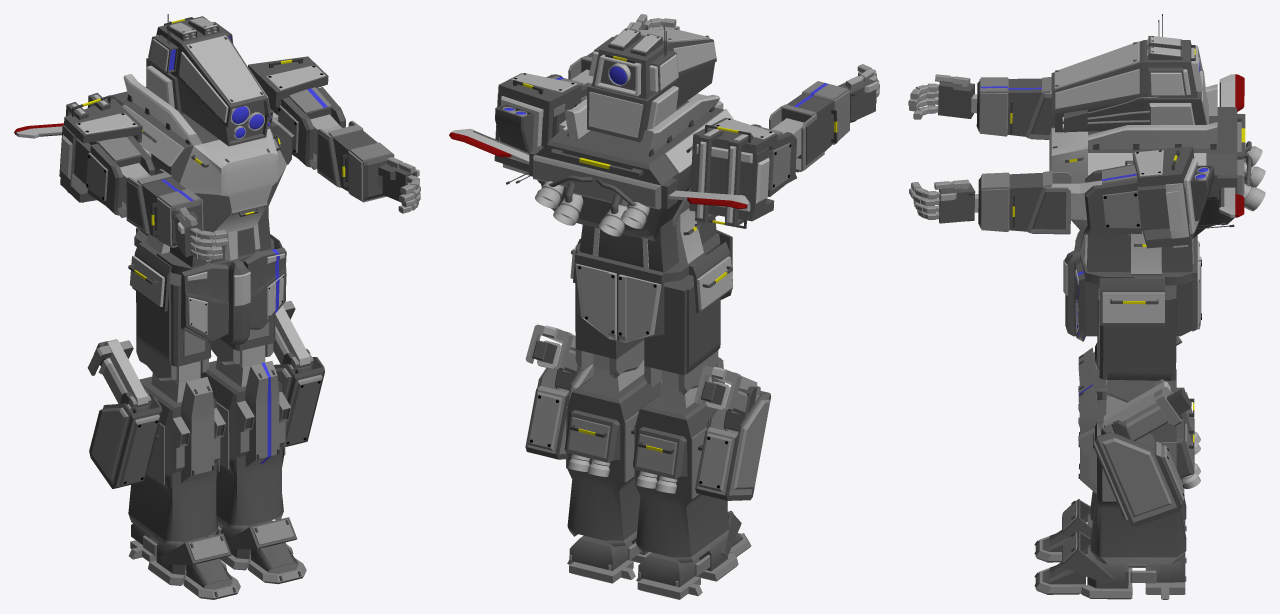
Rendered from Dash_FK_NoRig.fbx.
3 renders of one model, left to right at view 1: azimuth 30°, elevation 25°; view 2: azimuth 150°, elevation 25°; view 3: azimuth 270°, elevation 25°, orthographic. The views are drawn at different scales.
Parts seen in each view (by area): view 1: UpperChest, RightLowerLeg, LeftLowerLeg, Head, RightUpperLeg, RightFoot, Waist, Right_PistolHolster, LeftLowerArm, Right_UpperArm, Right_Shoulder, LeftFoot (+14 smaller); view 2: UpperChest, RightLowerLeg, LeftLowerLeg, Head, Waist, Right_Shoulder, RightUpperLeg, Left_Shoulder, Right_PistolHolster, LowerChest, RightLowerArm, RightFoot (+9 smaller); view 3: UpperChest, Head, LeftLowerLeg, Waist, Left_Pistol_Holster, LeftLowerArm, LeftUpperLeg, LeftFoot, Left_Shoulder, Left_UpperArm, RightLowerArm, LowerChest (+7 smaller).
Part boxes in pixels (<box>): UpperChest: <box>14,74,294,232</box>; RightLowerLeg: <box>128,372,225,547</box>; LeftLowerLeg: <box>200,357,290,531</box>; Head: <box>146,14,272,146</box>; RightUpperLeg: <box>136,272,211,383</box>; RightFoot: <box>129,523,240,599</box>; Waist: <box>128,228,286,344</box>; Right_PistolHolster: <box>89,396,162,488</box>; LeftLowerArm: <box>317,121,394,202</box>; Right_UpperArm: <box>74,136,155,217</box>; Right_Shoulder: <box>59,92,142,202</box>; LeftFoot: <box>206,517,306,584</box>; UpperChest: <box>449,93,749,241</box>; RightLowerLeg: <box>633,357,729,563</box>; LeftLowerLeg: <box>564,359,661,546</box>; Head: <box>587,26,716,142</box>; Waist: <box>570,233,733,342</box>; Right_Shoulder: <box>689,117,777,228</box>; RightUpperLeg: <box>644,275,720,394</box>; Left_Shoulder: <box>494,73,581,184</box>; Right_PistolHolster: <box>695,390,770,500</box>; LowerChest: <box>579,208,716,272</box>; RightLowerArm: <box>769,81,849,172</box>; RightFoot: <box>636,510,751,599</box>; UpperChest: <box>1049,74,1265,238</box>; Head: <box>1051,14,1208,132</box>; LeftLowerLeg: <box>1078,379,1200,564</box>; Waist: <box>1063,235,1201,336</box>; Left_Pistol_Holster: <box>1093,420,1184,527</box>; LeftLowerArm: <box>978,170,1082,234</box>; LeftUpperLeg: <box>1097,285,1176,402</box>; LeftFoot: <box>1034,531,1186,599</box>; Left_Shoulder: <box>1132,146,1234,248</box>; Left_UpperArm: <box>1080,164,1169,236</box>; RightLowerArm: <box>976,76,1054,139</box>; LowerChest: <box>1082,230,1193,275</box>.
Size of the model in its own units: 6.83 by 12.35 by 7.36.
